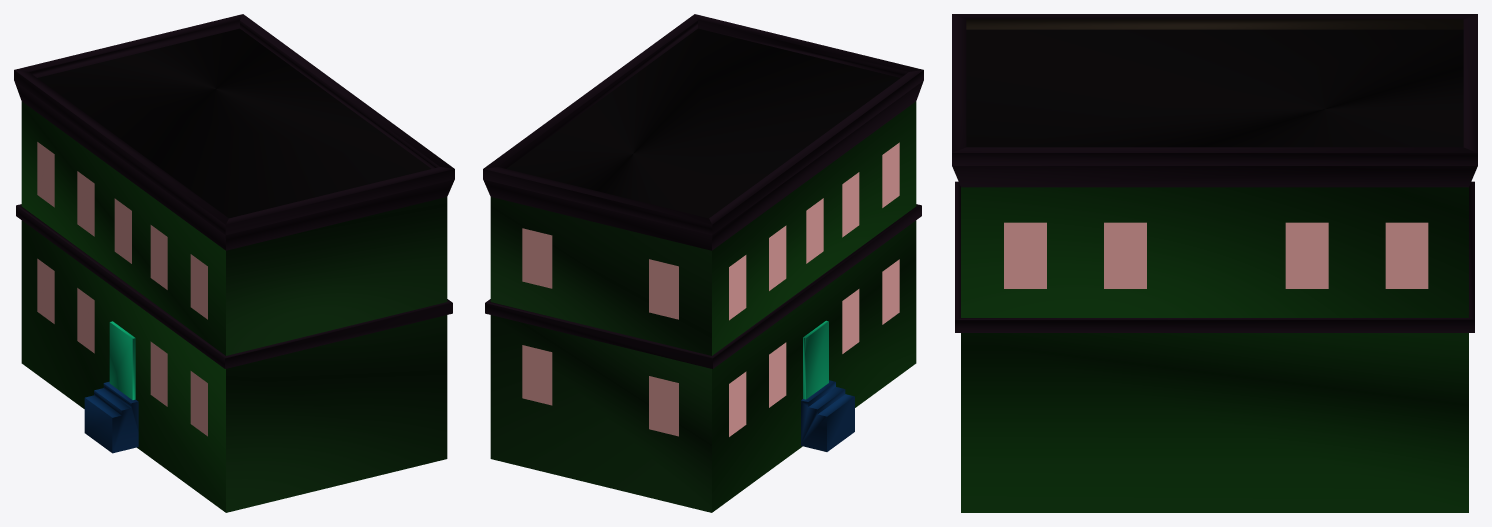
Rendered from Building6.fbx.
3 views of the same model, side by side, from view 1: azimuth 30°, elevation 25°; view 2: azimuth 150°, elevation 25°; view 3: azimuth 270°, elevation 25° (orthographic). The views are drawn at different scales.
Visible parts, largest first — view 1: Cube.005; view 2: Cube.005; view 3: Cube.005.
Part boxes in pixels (x1,y1,x2,y2): Cube.005: (14,14,454,512); Cube.005: (483,14,923,512); Cube.005: (952,14,1477,512).
Size of the model in its own units: 1576 by 1749 by 2300.
